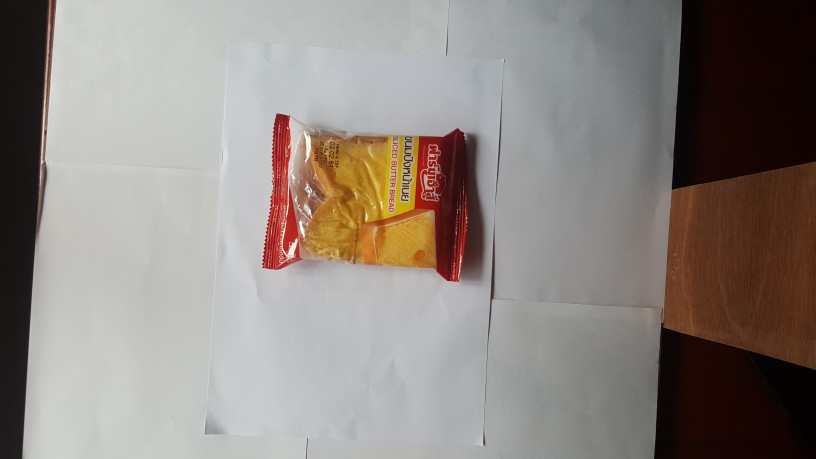farmhouse-bread-butter: (259, 109, 476, 289)
